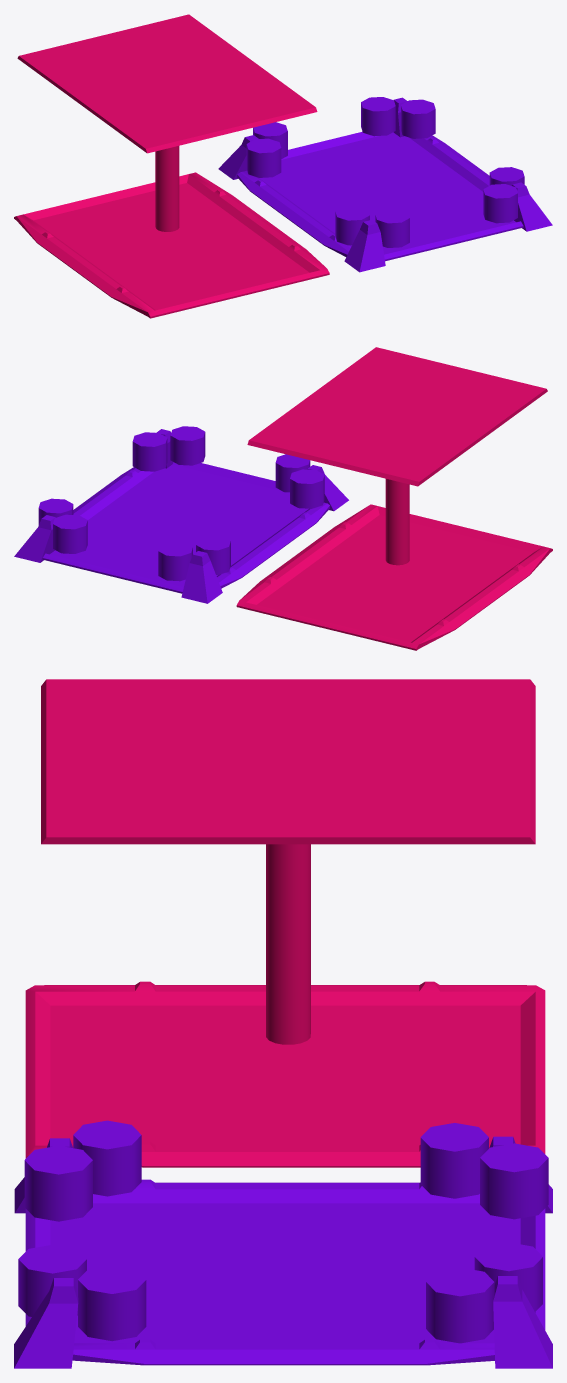
The model's file is BOOSTLAUNCH_Pack.fbx.
3 renders of one model, top to bottom at view 1: azimuth 30°, elevation 25°; view 2: azimuth 150°, elevation 25°; view 3: azimuth 270°, elevation 25°, orthographic. The views are drawn at different scales.
Parts seen in each view (by area): view 1: LaunchBase, LaunchPlatform, BoostPadBase, Wheel (×4), Wheel1 (×4), WheelSupport3, WheelSupport, WheelSupport2; view 2: LaunchBase, LaunchPlatform, BoostPadBase, Wheel1 (×4), Wheel (×4), WheelSupport2, WheelSupport1, WheelSupport3; view 3: LaunchPlatform, LaunchBase, BoostPadBase, Wheel (×4), Wheel1 (×4), WheelSupport, WheelSupport1.
Part boxes in pixels (x1,y1,x2,y2): LaunchBase: [14, 172, 329, 318]; LaunchPlatform: [17, 14, 317, 231]; BoostPadBase: [237, 131, 523, 261]; Wheel (×4): [246, 97, 524, 247]; Wheel1 (×4): [253, 99, 517, 245]; WheelSupport3: [344, 220, 385, 272]; WheelSupport: [512, 182, 552, 231]; WheelSupport2: [218, 135, 258, 179]; LaunchBase: [236, 504, 552, 650]; LaunchPlatform: [247, 347, 547, 565]; BoostPadBase: [42, 462, 329, 593]; Wheel1 (×4): [38, 426, 324, 581]; Wheel (×4): [53, 432, 310, 574]; WheelSupport2: [181, 551, 222, 603]; WheelSupport1: [14, 515, 55, 562]; WheelSupport3: [307, 465, 348, 511]; LaunchPlatform: [41, 679, 535, 1044]; LaunchBase: [25, 981, 545, 1167]; BoostPadBase: [25, 1179, 545, 1365]; Wheel (×4): [24, 1123, 542, 1341]; Wheel1 (×4): [18, 1120, 548, 1343]; WheelSupport: [14, 1278, 78, 1368]; WheelSupport1: [493, 1276, 552, 1368].
Bounding box in the file's own units: 4.45 × 1.75 × 2.67.
